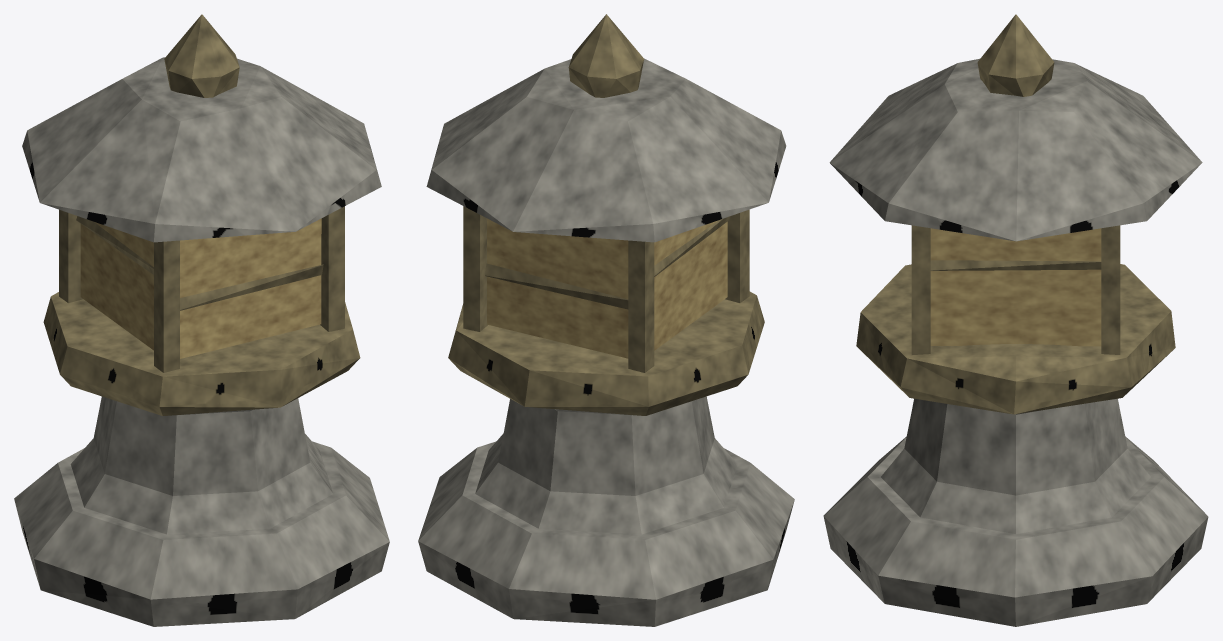
File: CanalLantern_LOD1.fbx
3 renders of one model, left to right at view 1: azimuth 30°, elevation 25°; view 2: azimuth 150°, elevation 25°; view 3: azimuth 270°, elevation 25°, orthographic.
Visible parts, largest first — view 1: CanalLantern.001; view 2: CanalLantern.001; view 3: CanalLantern.001.
Part boxes in pixels (x1,y1,x2,y2): CanalLantern.001: [14, 14, 389, 626]; CanalLantern.001: [418, 14, 794, 626]; CanalLantern.001: [823, 14, 1208, 626].
Size of the model in its own units: 0.3655 by 0.56 by 0.3655.
Materials: 1 (1 with a texture image).
